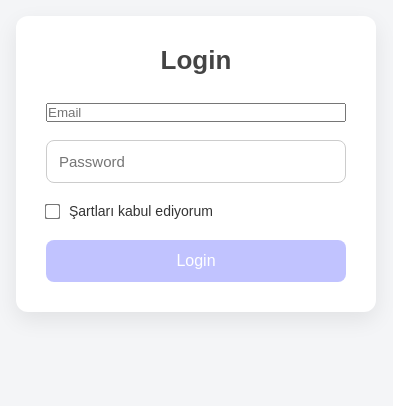
Login Form › Email ve password yanlış girilirse
Type "aaa" into the field with test id "email".
click(196, 113); type("aaa")  # box x1=46 y1=103 x2=346 y2=122
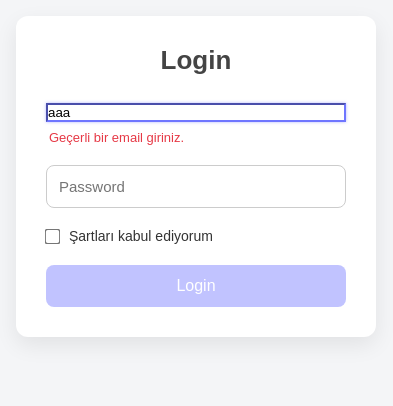
Type "123" into the password field with test id "password".
click(196, 187); type("123")  # box x1=46 y1=165 x2=346 y2=208
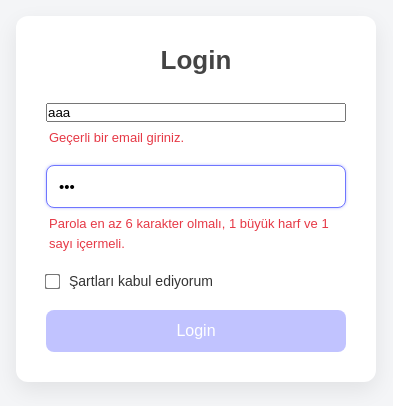
Now the text with test id "error-pass" shows "Parola", box x1=49 y1=216 x2=329 y2=251
